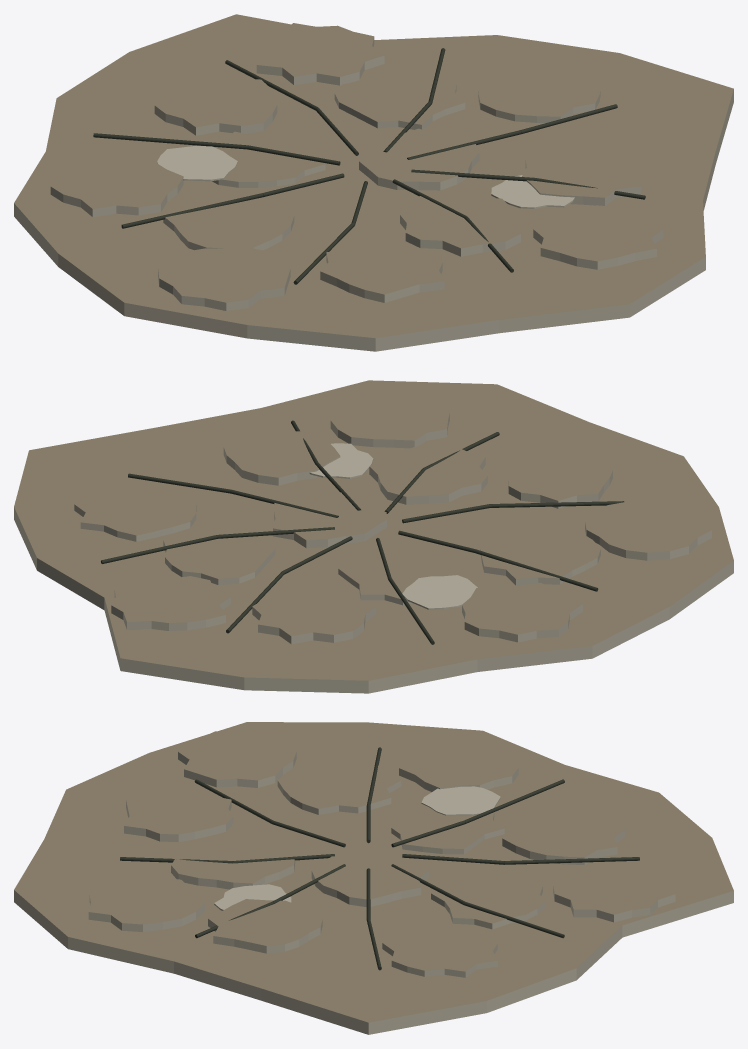
The model's file is Lakebed_Drum_Sink_Cleared.glb.
The picture shows the model from 3 angles, top to bottom: view 1: azimuth 30°, elevation 25°; view 2: azimuth 150°, elevation 25°; view 3: azimuth 270°, elevation 25°; orthographic projection. The views are drawn at different scales.
Parts seen in each view (by area): view 1: Structure; view 2: Structure; view 3: Structure.
Part boxes in pixels (x1=…): Structure: x1=14, y1=14, x2=733, y2=351; Structure: x1=14, y1=380, x2=733, y2=693; Structure: x1=14, y1=722, x2=733, y2=1034.
Bounding box in the file's own units: 6.3 × 0.212 × 6.38.
